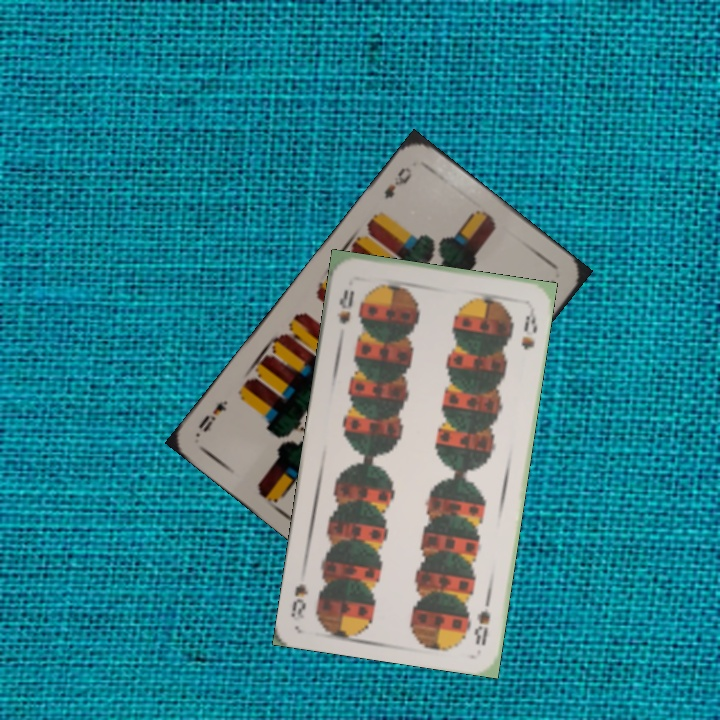E9: (380, 163, 415, 201)
S8: (470, 591, 494, 649), (334, 285, 357, 327)
